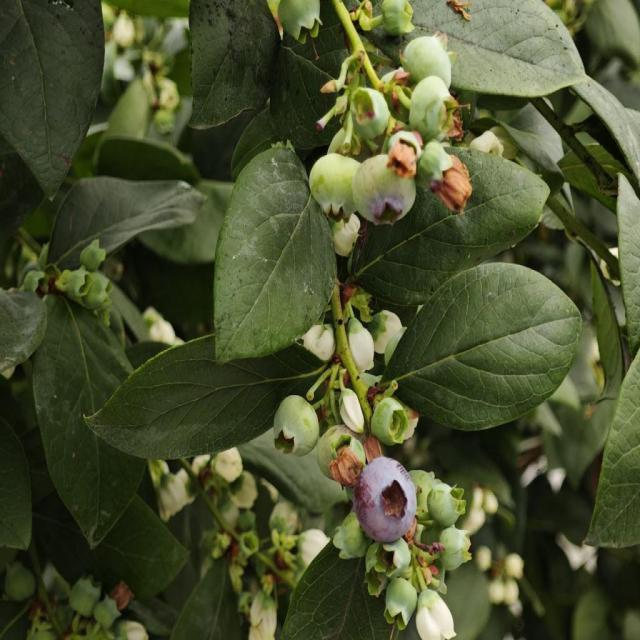Semi-RipeBlueBerry: (354, 455, 417, 543)
UnripeBlueBerry: (352, 151, 418, 227), (309, 153, 362, 223), (272, 394, 321, 459), (411, 76, 455, 142), (402, 34, 453, 90)
